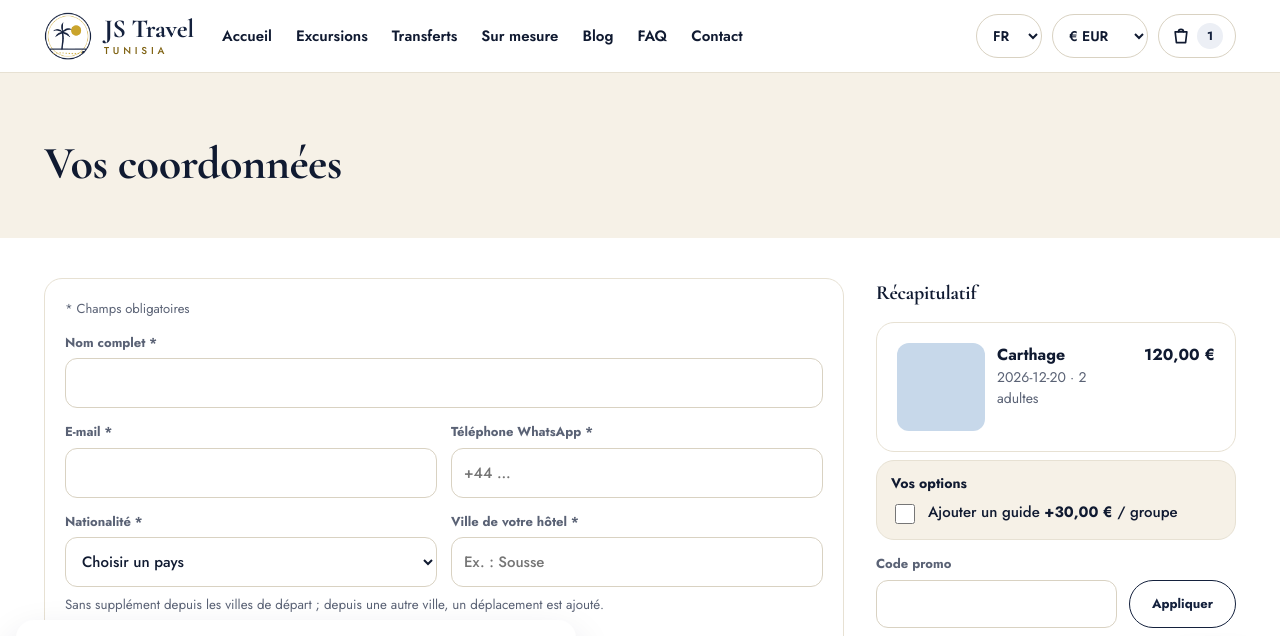
Test case: site public › formulaire final : nationalité, ville de l’hôtel, guide à cocher et transfert ajoutés au total
Later steps or results of the test are not shown.
expect the dropdown labelled "Nationalité *" is shown: met, box [65,537,437,587]
Click the checkbox labelled "Ajouter un guide +30,00 € / groupe": (905, 514) [895,504,915,524]
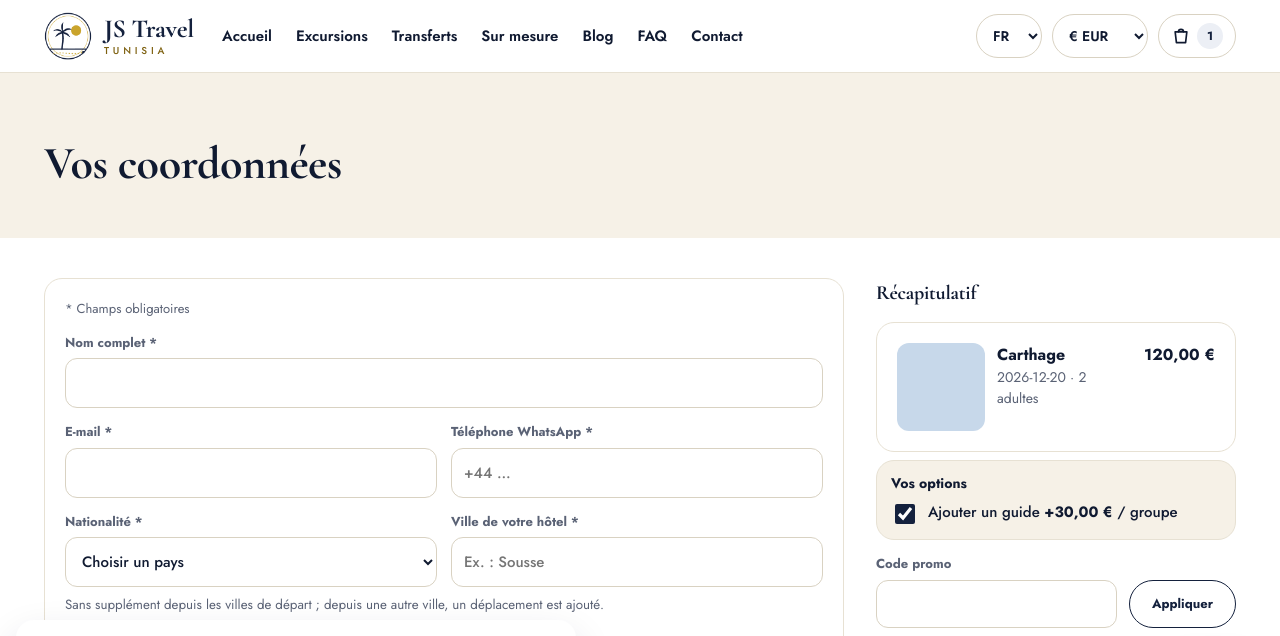
In the field labelled "Ville de votre hôtel *": (637, 562) [451,537,823,587], type "Nabeul"
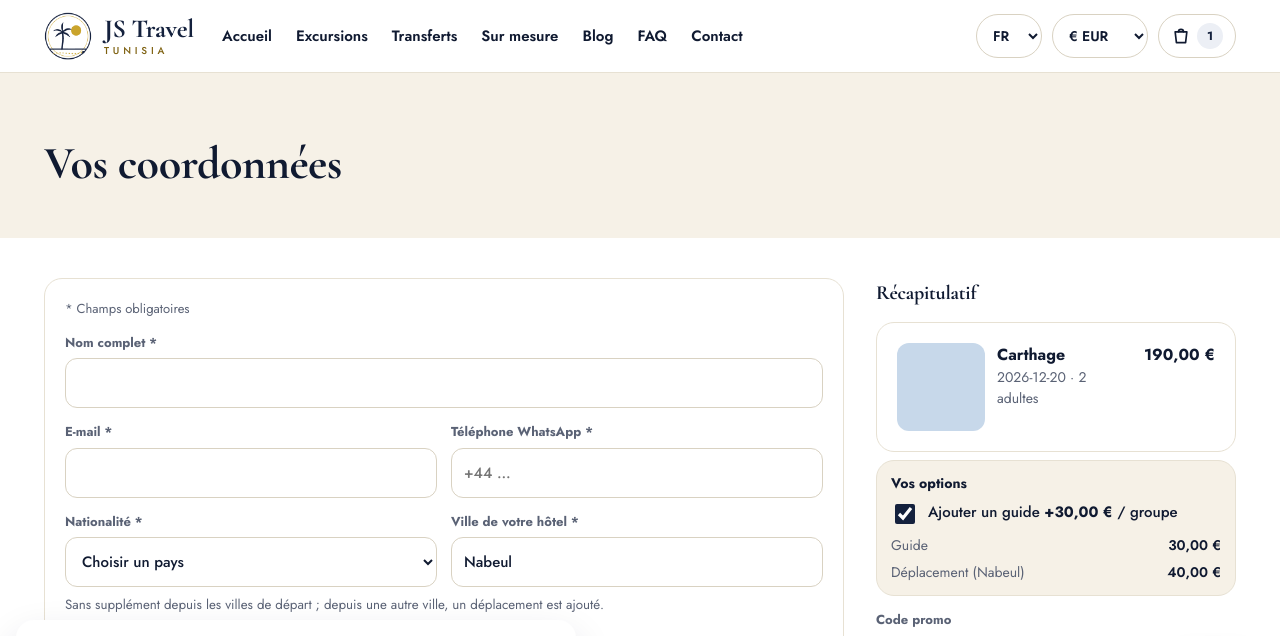
expect the text "190,00 €" is shown: met, box [1144,343,1215,366]
expect the text "Déplacement (Nabeul)" is shown: met, box [891,562,1025,583]
Replace the text in the field labelled "Ville de votre hôtel *" with "Tozeur": (637, 562) [451,537,823,587]
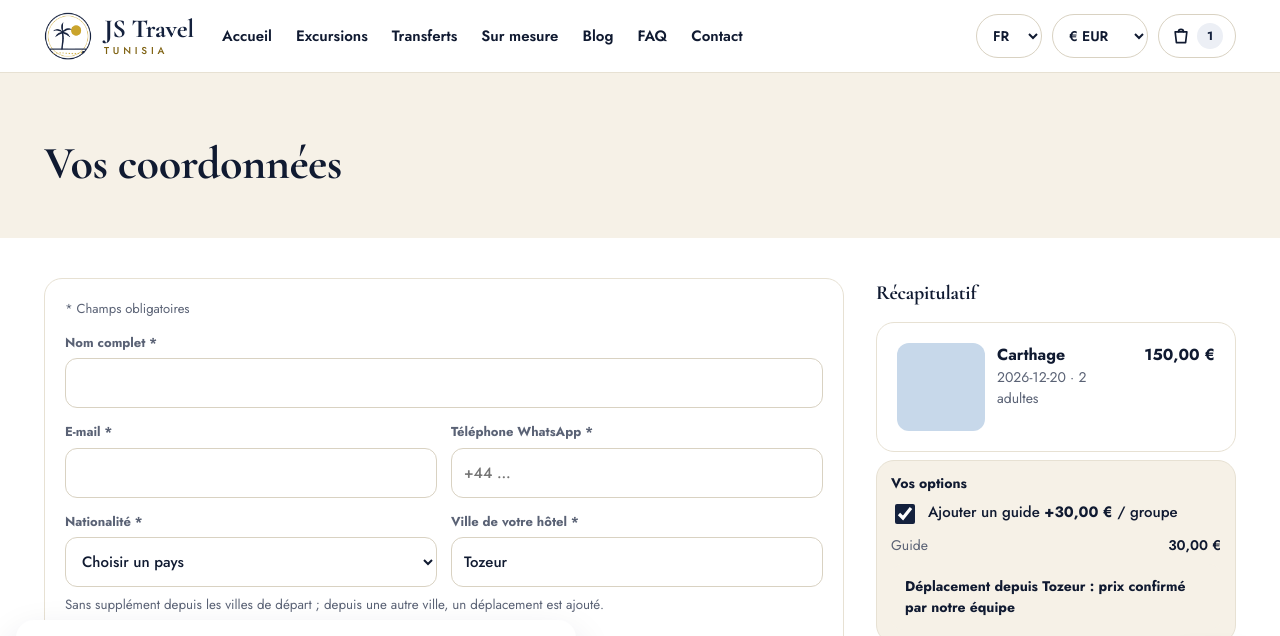
expect the text "Déplacement depuis Tozeur : prix confirmé par notre équipe" is shown: met, box [891,564,1221,630]
